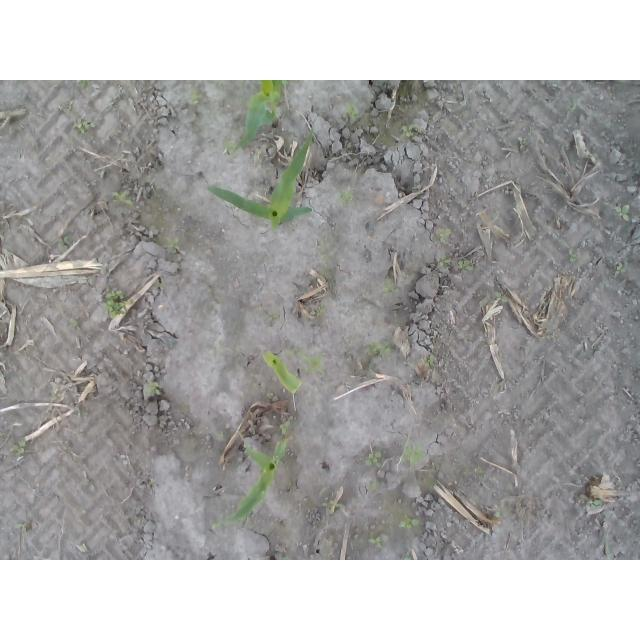Maize: (206, 126, 315, 231), (209, 438, 287, 531), (238, 81, 282, 148), (262, 350, 302, 395)
Weeds: (399, 439, 426, 466), (105, 289, 128, 320), (304, 353, 326, 376), (367, 339, 393, 358), (110, 190, 134, 207), (344, 98, 360, 122), (614, 205, 634, 224), (383, 276, 401, 296), (322, 496, 343, 512), (10, 439, 27, 458), (398, 513, 419, 528), (74, 117, 91, 135), (335, 191, 354, 207), (366, 448, 382, 465), (143, 381, 161, 396), (436, 227, 453, 242), (223, 139, 241, 153), (458, 258, 476, 272), (400, 123, 417, 137), (190, 89, 203, 106), (367, 480, 384, 493), (166, 238, 182, 251), (313, 303, 327, 317), (367, 535, 384, 546), (495, 292, 509, 305), (286, 348, 306, 357), (512, 136, 531, 145), (436, 255, 449, 268), (424, 354, 435, 368), (568, 248, 577, 264), (70, 319, 82, 330), (590, 498, 602, 509), (279, 420, 290, 432), (80, 80, 92, 89), (474, 466, 486, 475), (16, 519, 25, 528), (616, 264, 624, 273), (279, 553, 289, 560), (404, 552, 412, 560), (494, 511, 503, 517)
